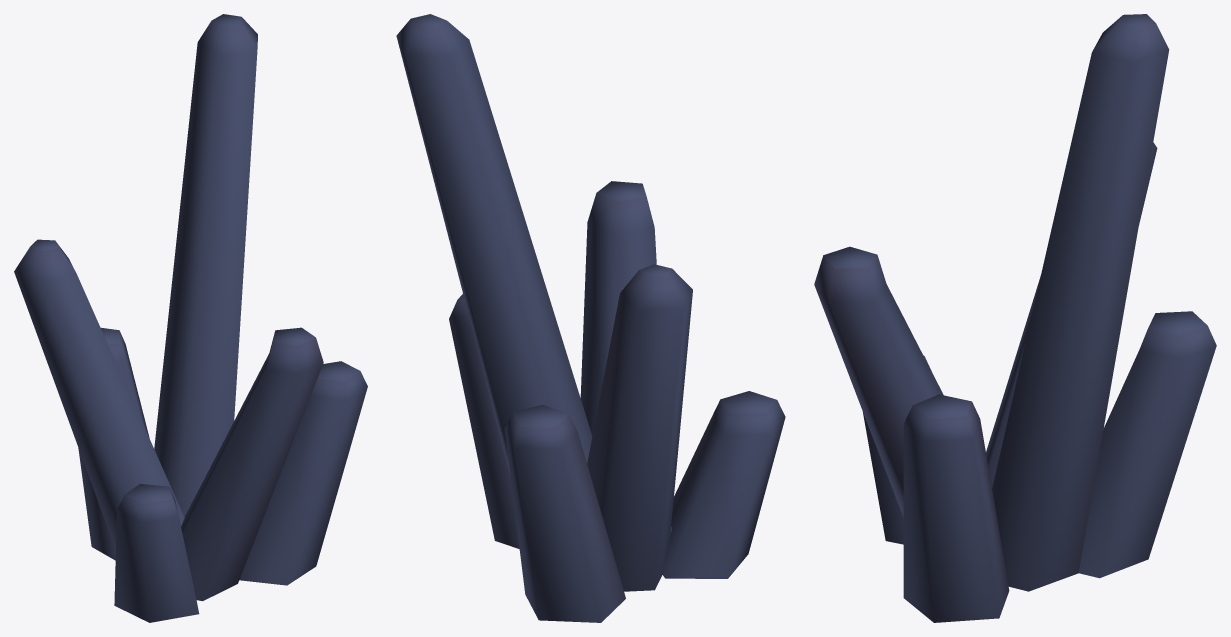
The model's file is Sunken Tomb Sharp Coral 2.fbx.
3 views of the same model, side by side, from view 1: azimuth 30°, elevation 25°; view 2: azimuth 150°, elevation 25°; view 3: azimuth 270°, elevation 25° (orthographic). The views are drawn at different scales.
Parts seen in each view (by area): view 1: Sharp Coral 2; view 2: Sharp Coral 2; view 3: Sharp Coral 2.
Boxes of the visible parts, <box> form: Sharp Coral 2: <box>14,14,367,622</box>; Sharp Coral 2: <box>396,14,785,622</box>; Sharp Coral 2: <box>814,14,1216,622</box>.
Bounding box in the file's own units: 354 × 607 × 370.
